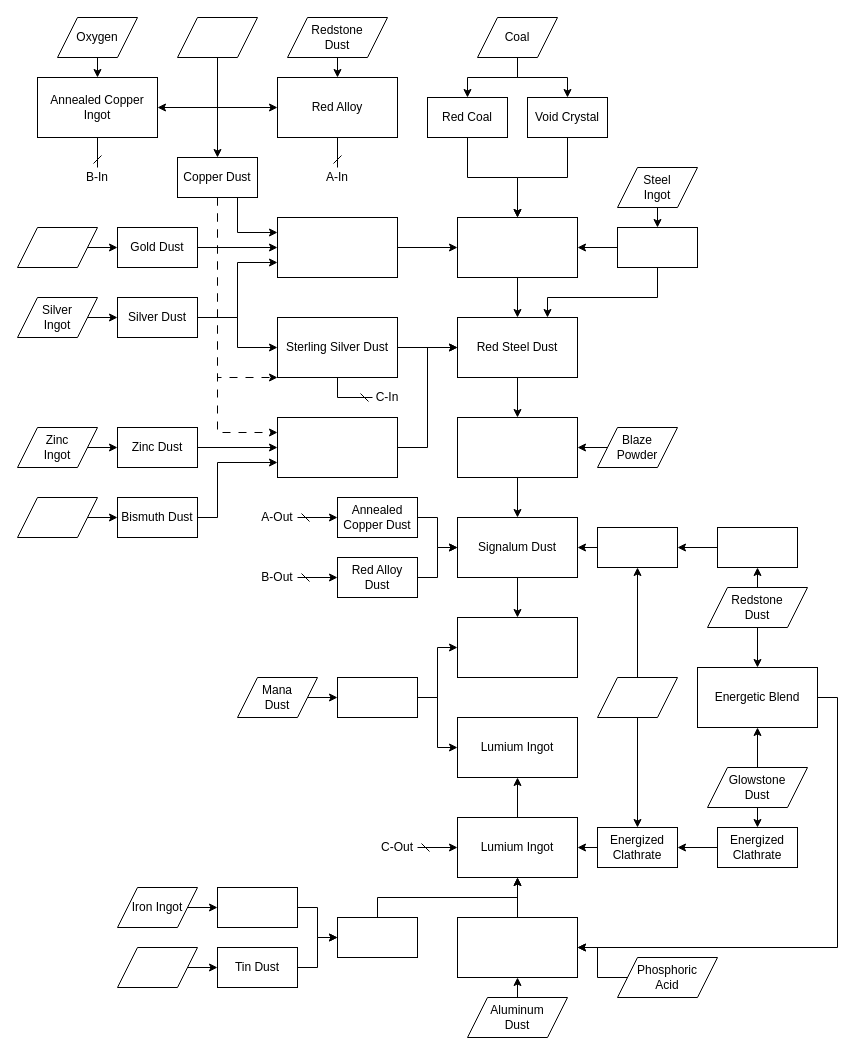
Image size: 863x1055. Some labels were removed from this diagram. Each missing label, with the box of its shape:
Ardite Dust: (456, 416, 578, 478)
Bismuth Bronze: (276, 416, 398, 478)
Bismuth Ingot: (16, 496, 98, 538)
Black Bronze Dust: (276, 216, 398, 278)
Black Steel Dust: (456, 216, 578, 278)
Copper Ingot: (176, 16, 258, 58)
Destabilized Clathrate: (596, 526, 678, 568)
Gold Ingot: (16, 226, 98, 268)
Iron Dust: (216, 886, 298, 928)
Luminessence: (456, 916, 578, 978)
Molten Redstone: (716, 526, 798, 568)
Primal Mana: (336, 676, 418, 718)
Quartz: (596, 676, 678, 718)
Signalum Ingot: (456, 616, 578, 678)
Steel Dust: (616, 226, 698, 268)
Tin Alloy Dust: (336, 916, 418, 958)
Tin Ingot: (116, 946, 198, 988)
